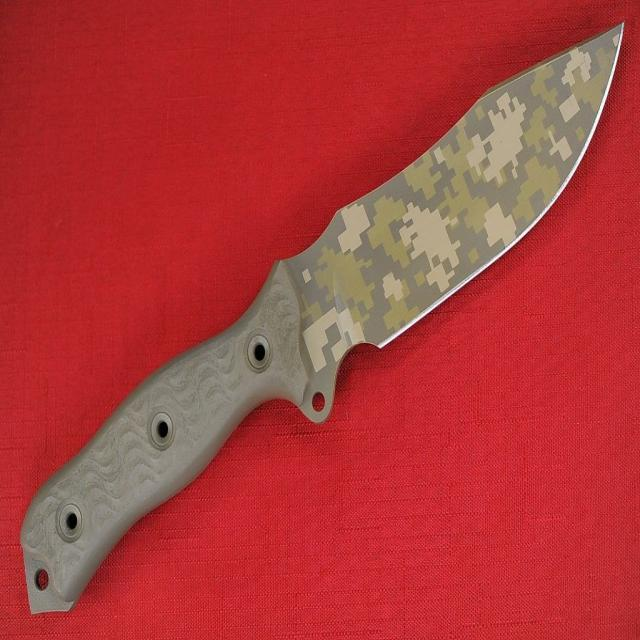Knife: (21, 25, 622, 612)
